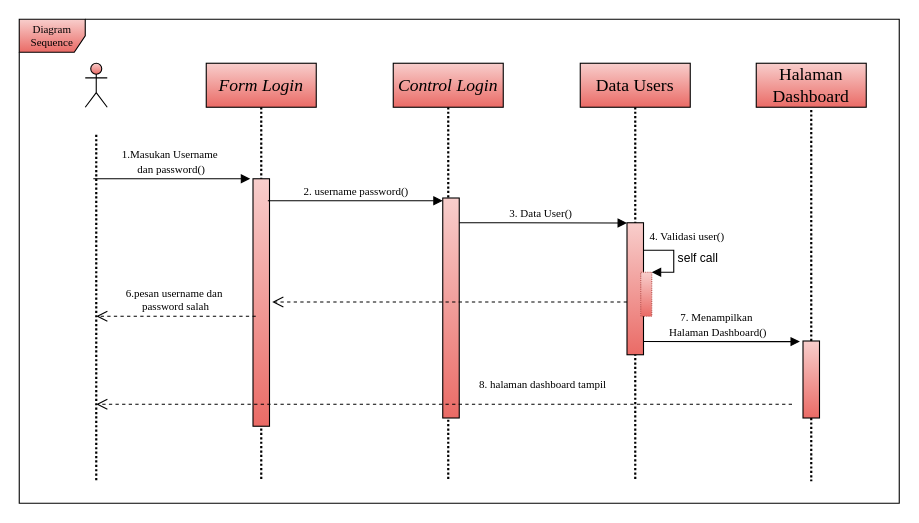
The diagram is 919 pixels wide and 523 high, and some of its shapes have lost their labels. The shapes that lost their labels are listed below. From the top down, each one's centre as x and y in pixels, then its label:
point (95, 84): Users
point (450, 307): 5. username dan password salah
